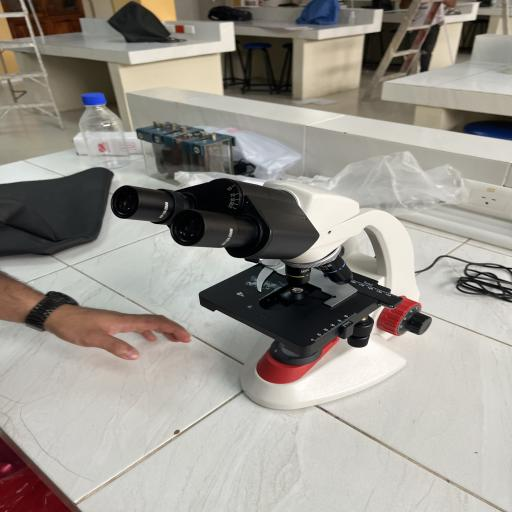Microscopio_Binocular: (102, 162, 443, 427)
